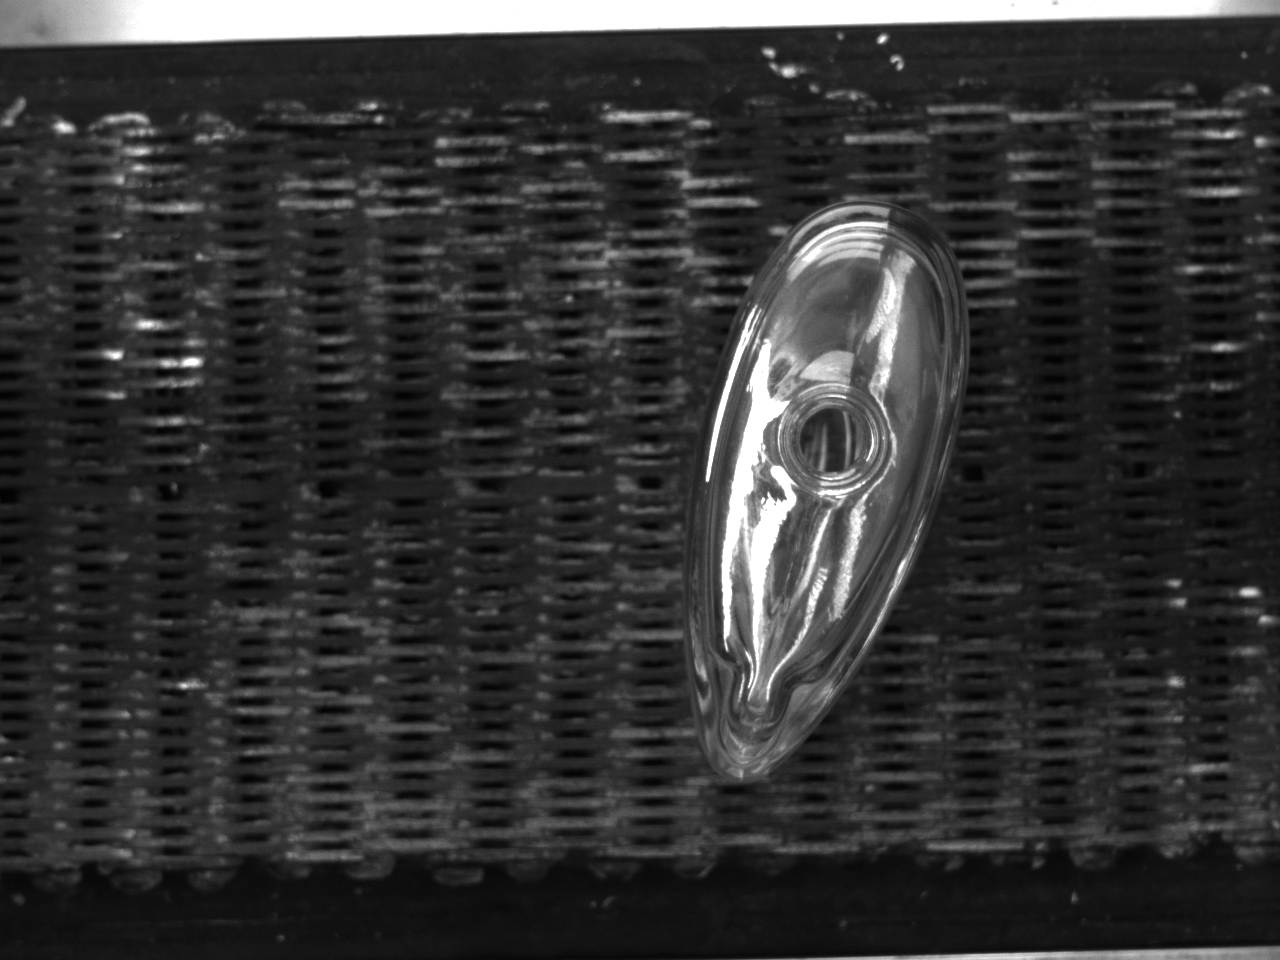bottleneck: (778, 382, 892, 495)
